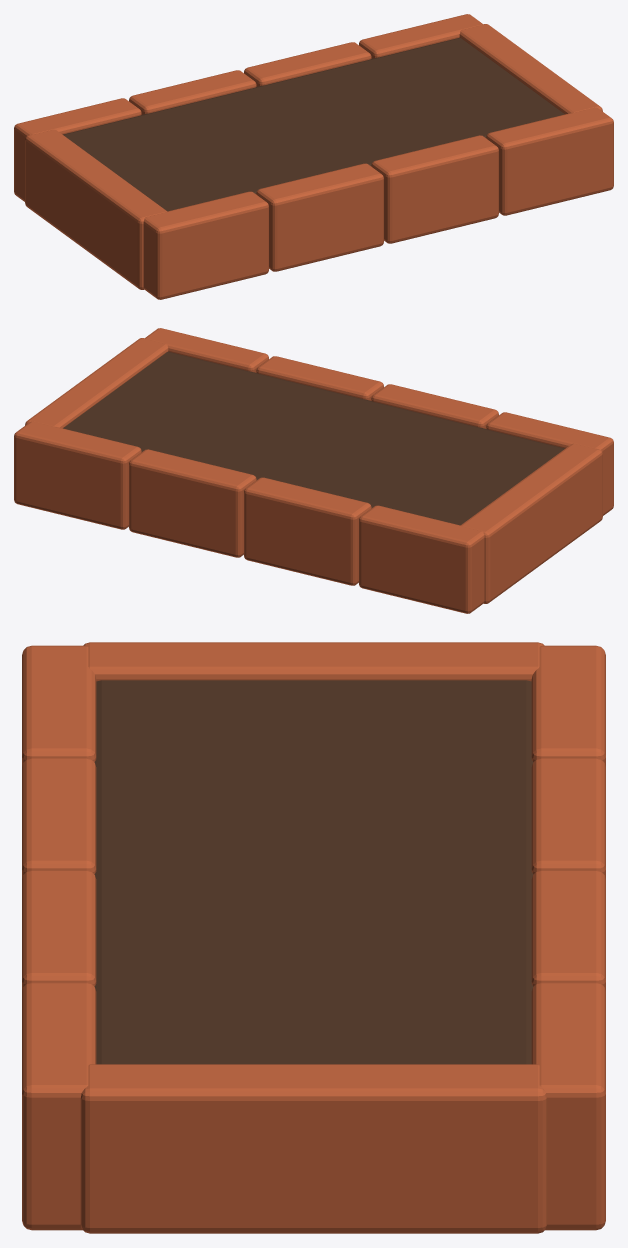
File: border_bed.glb
3 views of the same model, one above another, from view 1: azimuth 30°, elevation 25°; view 2: azimuth 150°, elevation 25°; view 3: azimuth 270°, elevation 25° (orthographic). The views are drawn at different scales.
Visible parts, largest first — view 1: Soil, End_brick, Terracotta_brick.004, Terracotta_brick.006, Terracotta_brick.005, Terracotta_brick.007, End_brick.001, Terracotta_brick, Terracotta_brick.001, Terracotta_brick.002, Terracotta_brick.003; view 2: Soil, End_brick, Terracotta_brick, Terracotta_brick.002, Terracotta_brick.001, Terracotta_brick.003, End_brick.001, Terracotta_brick.004, Terracotta_brick.005, Terracotta_brick.006, Terracotta_brick.007; view 3: Soil, End_brick.001, End_brick, Terracotta_brick.003, Terracotta_brick.007, Terracotta_brick.002, Terracotta_brick.006, Terracotta_brick.001, Terracotta_brick.005, Terracotta_brick, Terracotta_brick.004.
Part boxes in pixels (x1,y1,x2,y2): Soil: [63, 37, 564, 211]; End_brick: [25, 129, 167, 289]; Terracotta_brick.004: [143, 191, 268, 299]; Terracotta_brick.006: [371, 135, 498, 243]; Terracotta_brick.005: [256, 163, 383, 271]; Terracotta_brick.007: [486, 107, 613, 215]; End_brick.001: [459, 24, 602, 114]; Terracotta_brick: [14, 98, 141, 201]; Terracotta_brick.001: [129, 70, 256, 114]; Terracotta_brick.002: [244, 42, 371, 86]; Terracotta_brick.003: [359, 14, 483, 58]; Soil: [63, 351, 564, 525]; End_brick: [460, 443, 602, 603]; Terracotta_brick: [359, 505, 484, 613]; Terracotta_brick.002: [129, 449, 256, 557]; Terracotta_brick.001: [244, 477, 371, 585]; Terracotta_brick.003: [14, 421, 141, 529]; End_brick.001: [25, 338, 168, 428]; Terracotta_brick.004: [486, 412, 613, 515]; Terracotta_brick.005: [371, 384, 498, 428]; Terracotta_brick.006: [256, 356, 383, 400]; Terracotta_brick.007: [144, 328, 268, 372]; Soil: [94, 680, 533, 1064]; End_brick.001: [80, 1064, 547, 1233]; End_brick: [83, 642, 544, 681]; Terracotta_brick.003: [531, 982, 605, 1230]; Terracotta_brick.007: [22, 982, 96, 1230]; Terracotta_brick.002: [531, 870, 605, 990]; Terracotta_brick.006: [22, 870, 96, 990]; Terracotta_brick.001: [531, 758, 605, 878]; Terracotta_brick.005: [22, 758, 96, 878]; Terracotta_brick: [531, 645, 605, 766]; Terracotta_brick.004: [22, 645, 96, 766].
Bounding box in the file's own units: 1.01 × 0.15 × 0.55.
